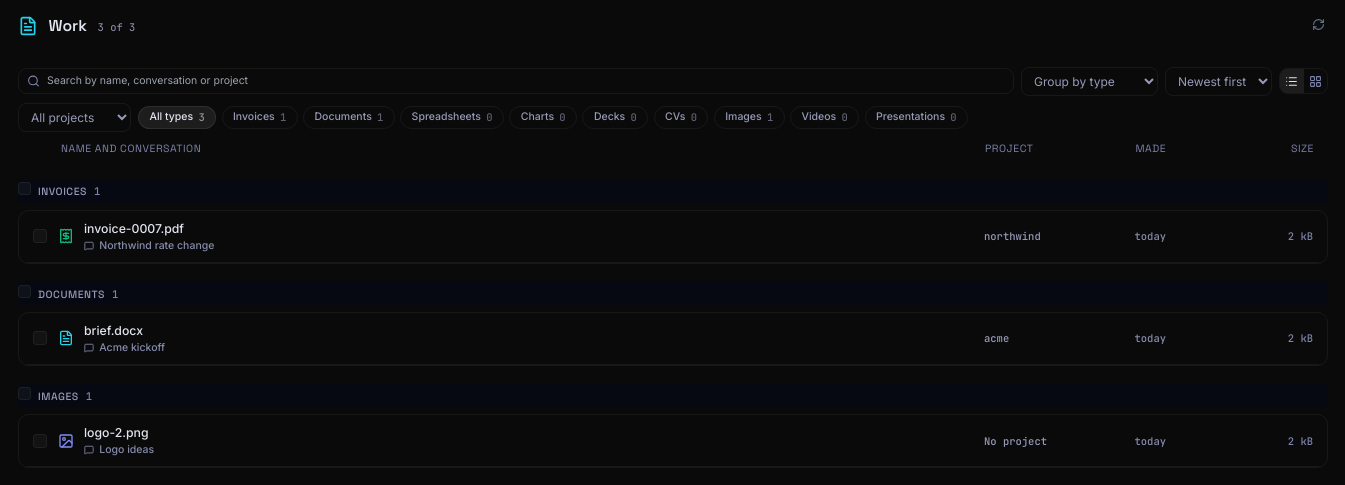
when there is nothing to show › offers a way back out of a filter that matches nothing
Expected: the text "invoice-0007.pdf" is shown, [84,220,184,236]
In the search field labelled "Search by name, conversation or project": (516, 81) [18,68,1014,94], type "zzzznothing"
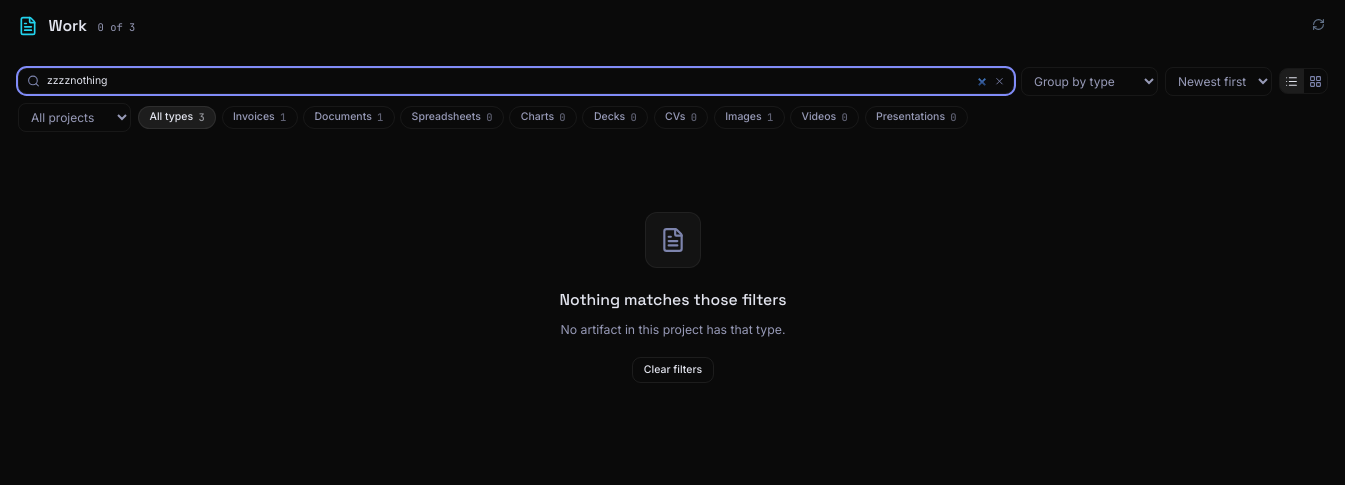
Result: the heading "Nothing matches those filters" is shown at [560,288,786,312]
Click the button "Clear filters": (673, 370) [632,357,714,383]
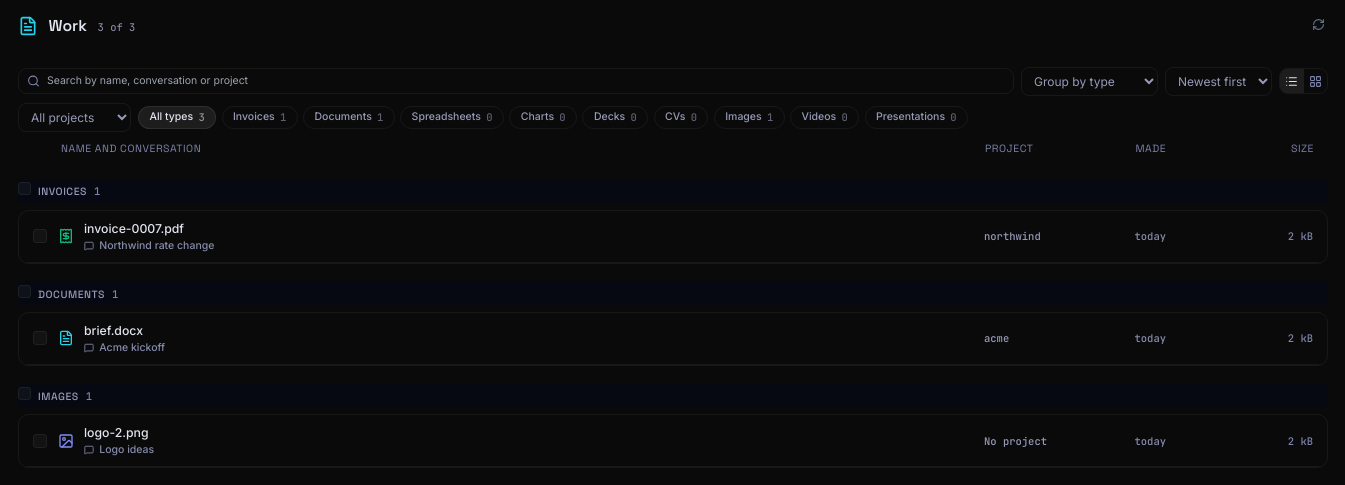
Result: the text "invoice-0007.pdf" is shown at [84,220,184,236]
